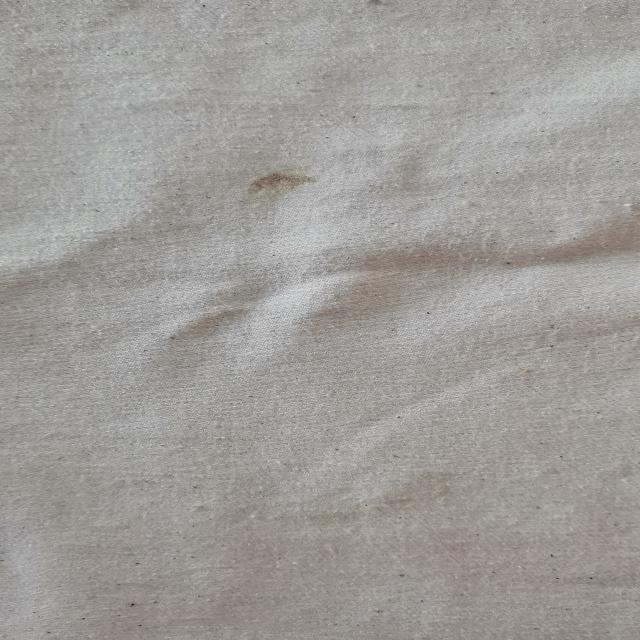taaaches: (217, 150, 345, 224)
